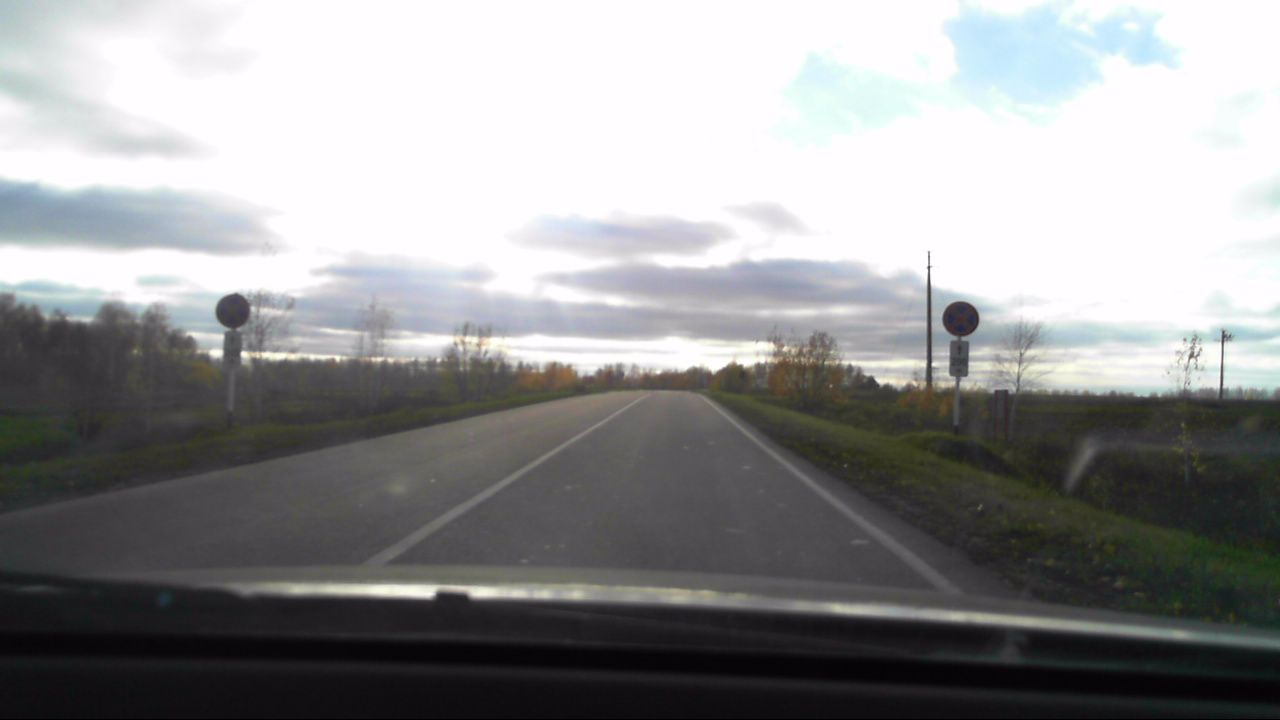No Parking: (941, 299, 980, 337)
